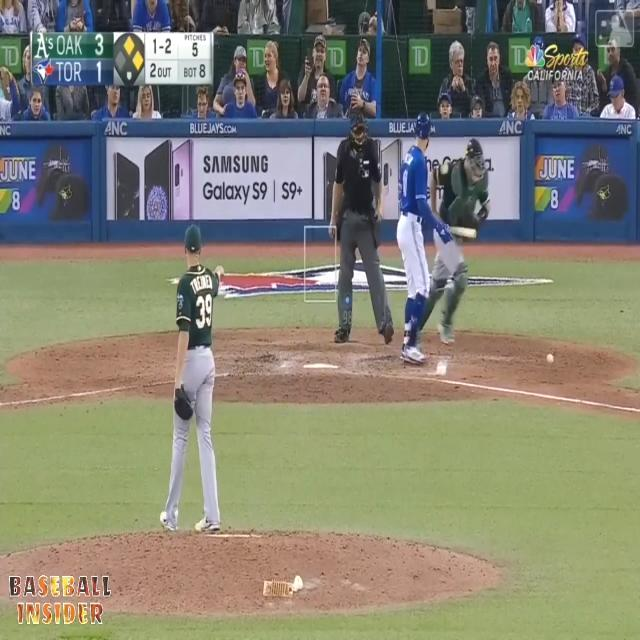ball: (544, 353, 556, 362)
bat: (451, 224, 479, 240)
